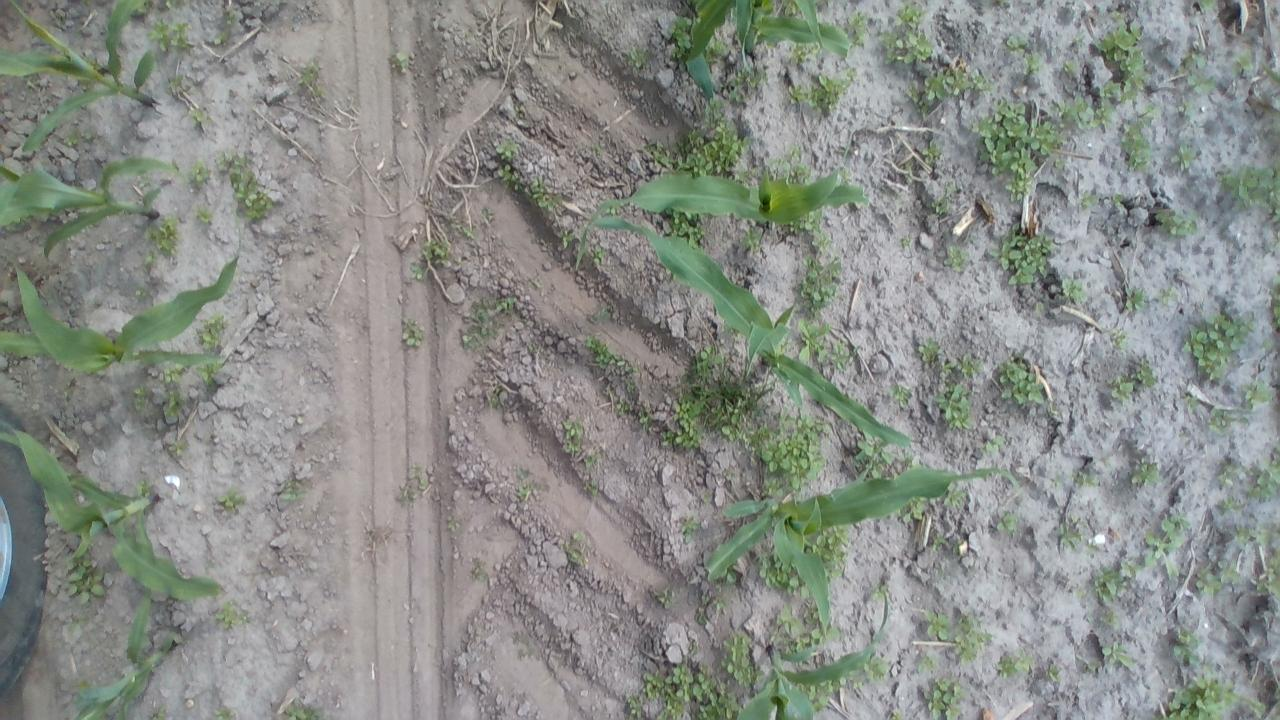Maize: (594, 218, 922, 443), (706, 468, 1018, 638), (0, 422, 221, 599), (0, 255, 241, 373), (576, 170, 866, 267), (2, 0, 160, 153), (738, 592, 892, 718), (0, 158, 186, 259), (682, 1, 853, 104), (75, 597, 176, 720)
Weeds: (974, 102, 1057, 172), (1094, 19, 1150, 100), (1221, 164, 1280, 236), (1190, 313, 1252, 381), (762, 432, 820, 484), (884, 5, 934, 64), (1168, 677, 1230, 720), (230, 168, 271, 222), (998, 362, 1044, 406), (922, 64, 978, 100), (720, 636, 756, 688), (713, 125, 749, 175), (1055, 94, 1105, 130), (66, 565, 106, 603), (805, 260, 837, 306), (1121, 118, 1150, 167), (930, 680, 966, 719), (936, 386, 969, 428), (952, 620, 986, 660), (1184, 53, 1216, 94), (812, 74, 846, 112), (1254, 463, 1278, 505), (1158, 209, 1195, 235), (708, 689, 738, 720), (860, 441, 889, 473), (800, 321, 824, 359), (153, 220, 181, 252), (989, 241, 1022, 268), (1025, 236, 1050, 270), (1160, 514, 1190, 542), (1133, 456, 1159, 487), (1095, 567, 1123, 595), (474, 304, 499, 335), (197, 320, 232, 342), (944, 357, 982, 377), (152, 21, 176, 52), (1146, 534, 1170, 564), (1007, 260, 1036, 284), (1134, 357, 1156, 388), (1172, 144, 1198, 170), (686, 152, 714, 176), (832, 342, 856, 370), (212, 601, 245, 621), (674, 423, 700, 448), (1098, 83, 1122, 110), (926, 612, 950, 638), (650, 144, 681, 164), (1058, 524, 1080, 552), (1238, 524, 1276, 540), (697, 346, 722, 370), (402, 322, 427, 346), (1124, 284, 1146, 311), (776, 606, 798, 632), (695, 673, 717, 699), (760, 558, 780, 586), (664, 684, 698, 700), (568, 530, 584, 564), (175, 21, 194, 49), (1220, 457, 1237, 488), (912, 652, 938, 672), (946, 248, 972, 268), (284, 700, 314, 717), (1104, 638, 1125, 662), (793, 418, 818, 438), (890, 385, 911, 408), (1259, 557, 1279, 581), (1080, 188, 1100, 212), (1218, 559, 1238, 583), (1194, 570, 1218, 590), (1246, 382, 1270, 402), (916, 340, 940, 360), (1058, 276, 1083, 295), (1172, 633, 1194, 654), (1112, 374, 1132, 397), (672, 666, 694, 686), (642, 670, 664, 690), (742, 226, 762, 248), (190, 164, 210, 186), (722, 414, 742, 436), (562, 420, 585, 439), (1006, 178, 1026, 199), (532, 184, 549, 208), (1009, 223, 1026, 247), (787, 85, 806, 106), (165, 389, 186, 408), (826, 528, 848, 546), (850, 12, 866, 36), (218, 490, 242, 506), (998, 657, 1018, 676), (671, 402, 690, 422), (678, 220, 704, 234), (158, 369, 184, 383), (1076, 468, 1096, 486), (689, 130, 709, 148), (133, 384, 149, 406), (430, 239, 447, 259), (789, 157, 806, 177), (628, 698, 644, 719), (1273, 280, 1280, 326), (986, 436, 1006, 452), (1025, 50, 1040, 71), (932, 197, 950, 214), (1212, 409, 1230, 426), (409, 471, 426, 488), (196, 207, 212, 225), (998, 512, 1014, 530), (872, 662, 892, 676), (802, 218, 822, 232), (630, 51, 646, 68), (498, 165, 514, 182), (1218, 500, 1236, 515), (595, 346, 609, 365), (1109, 330, 1125, 346), (472, 566, 488, 582), (497, 140, 513, 156), (392, 52, 407, 69), (911, 503, 926, 520), (588, 245, 604, 260), (562, 442, 582, 454), (930, 141, 941, 161), (780, 570, 792, 588), (172, 439, 188, 452), (610, 352, 624, 366), (682, 519, 695, 534), (410, 262, 422, 278), (284, 487, 301, 498), (1045, 664, 1058, 678), (516, 487, 530, 500), (659, 590, 670, 606), (678, 34, 689, 50), (502, 296, 514, 310), (462, 332, 473, 346), (1188, 397, 1198, 412), (587, 455, 597, 468), (587, 338, 598, 347)
